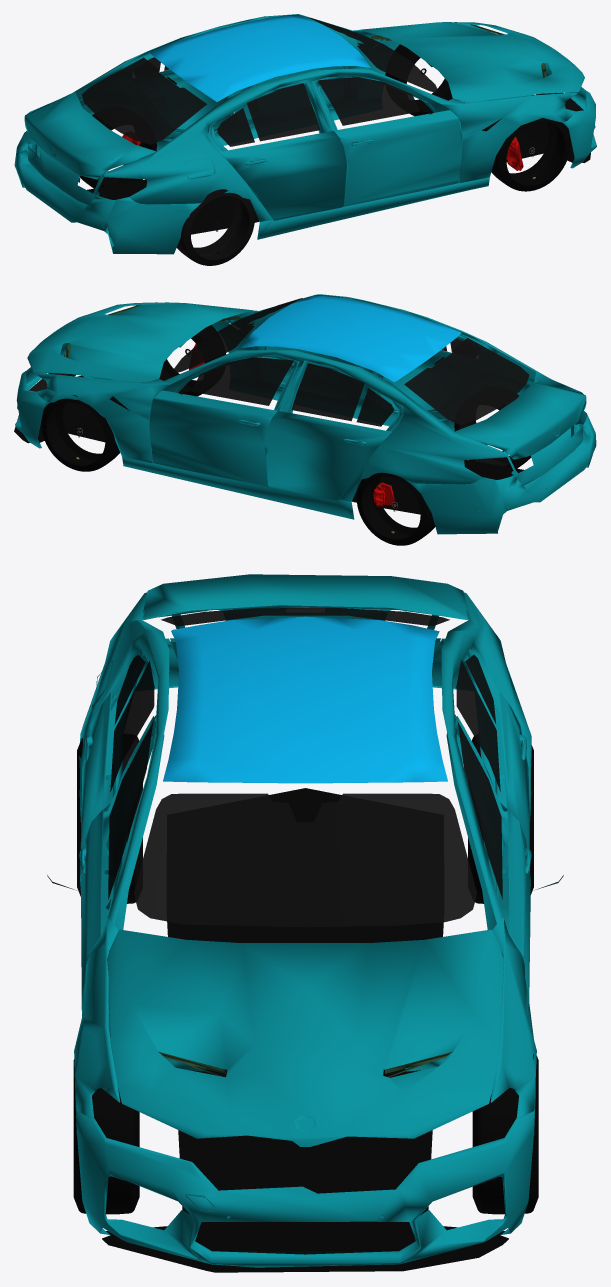
The picture shows the model from 3 angles, top to bottom: view 1: azimuth 30°, elevation 25°; view 2: azimuth 150°, elevation 25°; view 3: azimuth 270°, elevation 25°; orthographic projection. The views are drawn at different scales.
Visible parts, largest first — view 1: Object_55, Object_54, Object_99, Object_3, Object_77, Object_14, Object_79, Object_78, Object_67; view 2: Object_55, Object_54, Object_99, Object_3, Object_77, Object_14, Object_78, Object_79, Object_67; view 3: Object_55, Object_54, Object_99, Object_3, Object_14, Object_77, Object_19, Object_79, Object_78.
Part boxes in pixels (<box>): Object_55: <box>24,22,584,220</box>; Object_54: <box>14,14,596,254</box>; Object_99: <box>82,17,438,146</box>; Object_3: <box>150,15,370,101</box>; Object_77: <box>385,44,570,191</box>; Object_14: <box>87,95,590,234</box>; Object_79: <box>176,189,254,265</box>; Object_78: <box>80,113,156,188</box>; Object_67: <box>122,134,523,170</box>; Object_55: <box>27,302,586,500</box>; Object_54: <box>15,294,596,534</box>; Object_99: <box>173,298,529,426</box>; Object_3: <box>241,296,461,382</box>; Object_77: <box>41,325,397,508</box>; Object_14: <box>14,375,523,514</box>; Object_78: <box>356,472,435,545</box>; Object_79: <box>454,394,531,468</box>; Object_67: <box>189,344,395,506</box>; Object_55: <box>79,574,531,1146</box>; Object_54: <box>74,592,536,1267</box>; Object_99: <box>108,607,502,927</box>; Object_3: <box>163,616,447,783</box>; Object_14: <box>102,788,508,1272</box>; Object_77: <box>73,1054,538,1214</box>; Object_19: <box>195,1221,415,1254</box>; Object_79: <box>77,736,142,903</box>; Object_78: <box>468,736,533,903</box>.
Size of the model in its own units: 19.1 by 5.5 by 8.19.
